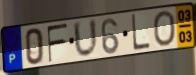0: (25, 26, 45, 66)
6: (100, 16, 121, 56)
F: (46, 22, 69, 64)
L: (130, 13, 151, 53)
O: (152, 9, 177, 48)
U: (72, 17, 100, 60)
